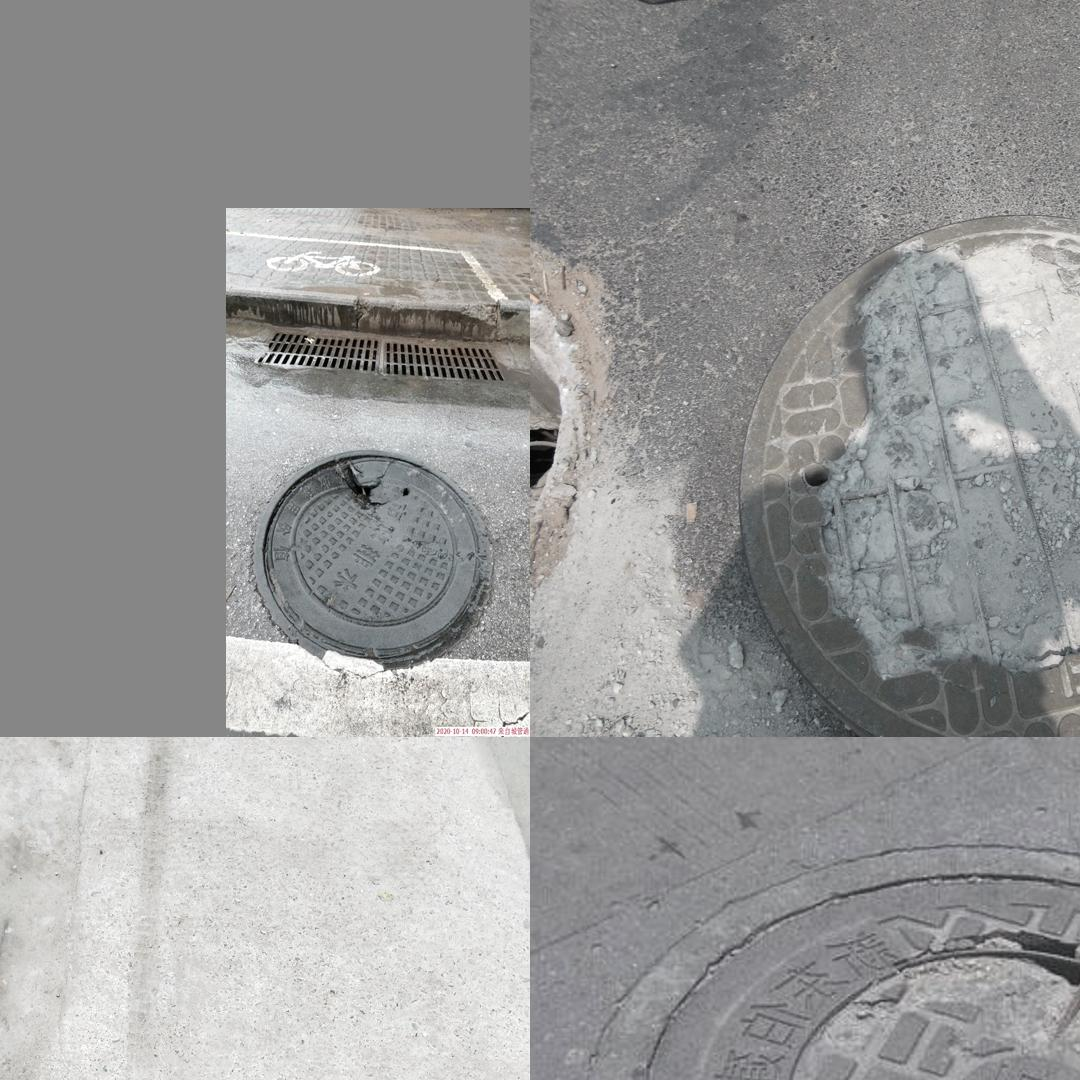broke: (735, 209, 1080, 737), (605, 854, 1080, 1080), (246, 438, 497, 683)
